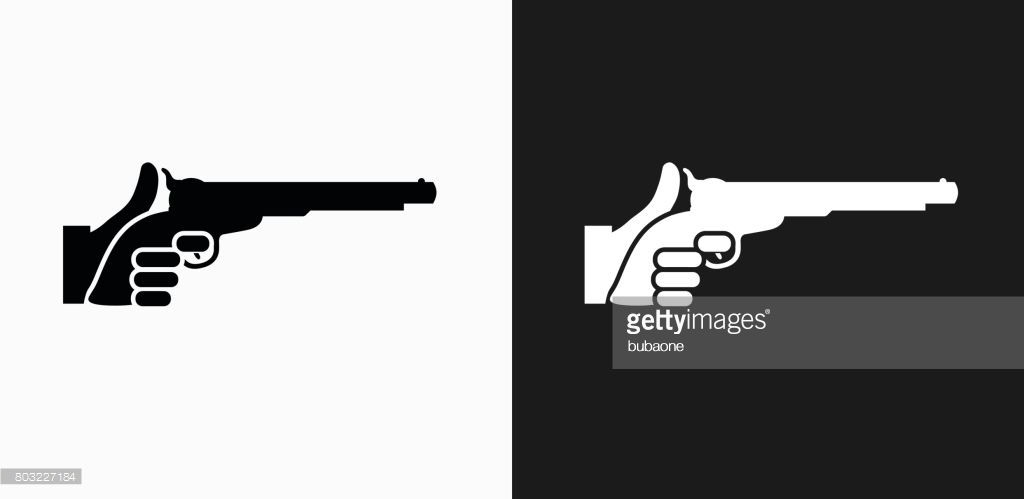pistol: (47, 140, 467, 356)
